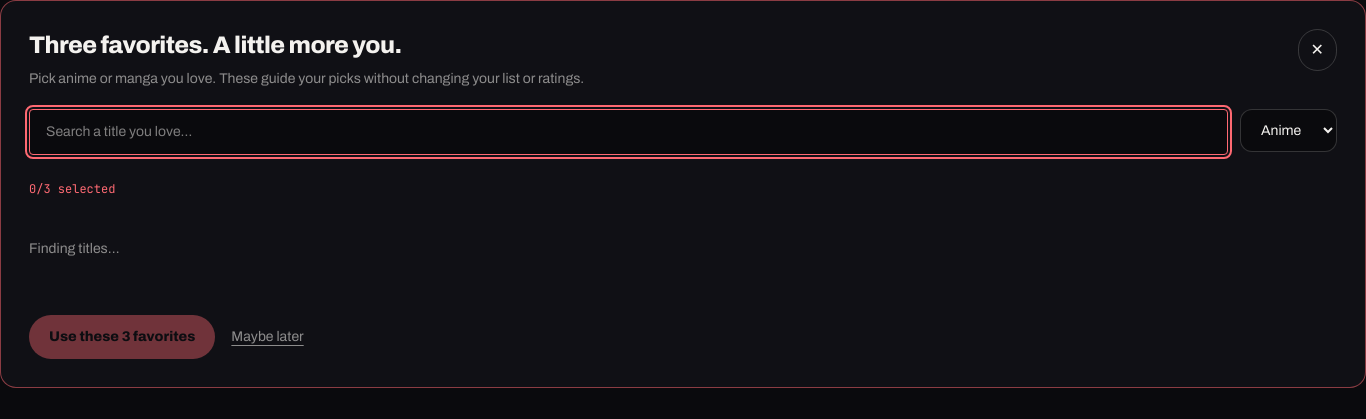
Test: taste starter › does not apply an older search response after a new query
In the field named "Search favorites": (628, 132) x1=29 y1=109 x2=1228 y2=155, type "new"
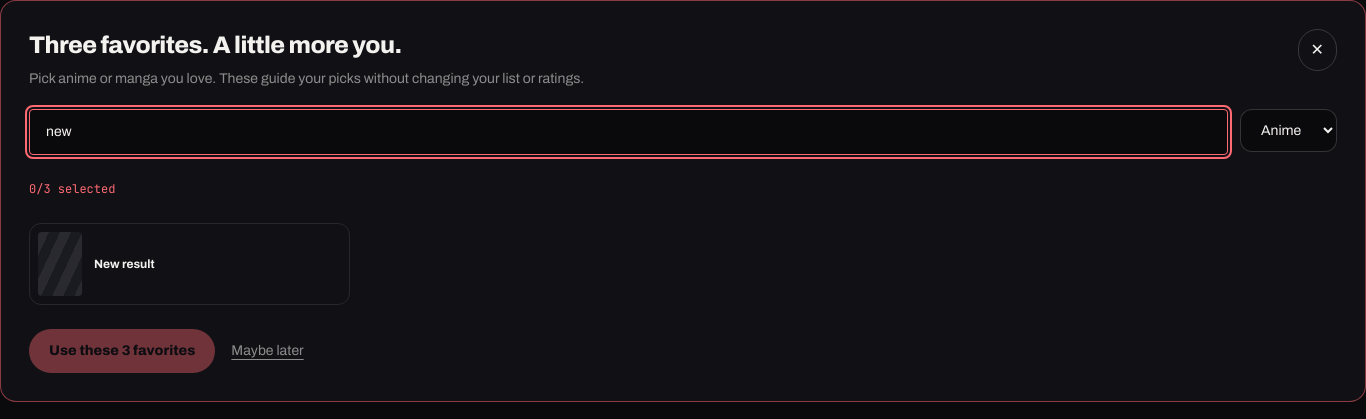
Now the button "New result" is shown, box x1=29 y1=223 x2=350 y2=305
